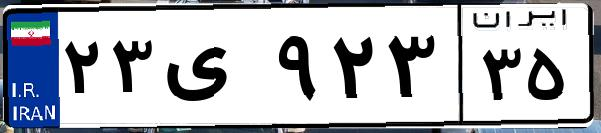2: (330, 28, 385, 110), (57, 26, 110, 100)
3: (385, 28, 445, 110), (475, 38, 525, 113), (110, 28, 158, 98)
5: (525, 38, 570, 115)
9: (270, 28, 330, 110)
ی: (158, 20, 270, 120)
